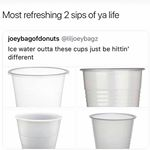cups: (78, 65, 148, 109), (6, 65, 72, 107), (87, 111, 138, 150), (15, 112, 65, 150)
